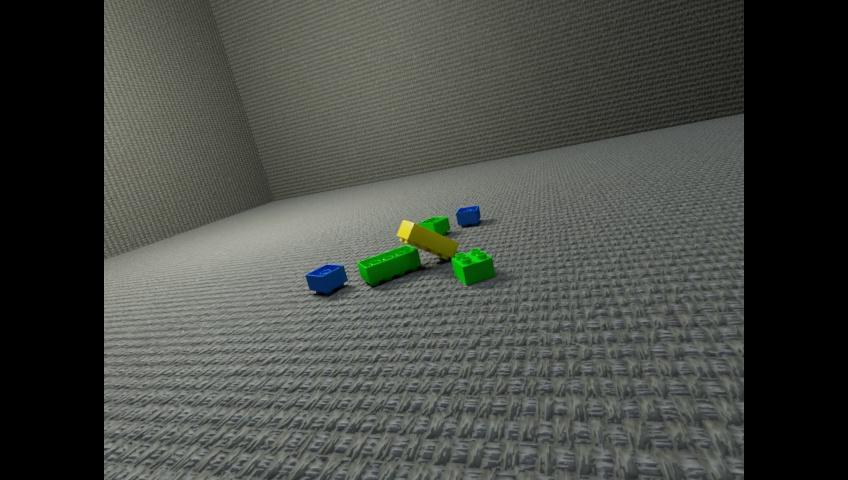2x2_blue: (305, 263, 347, 294), (455, 205, 479, 226)
2x2_green: (451, 247, 494, 284), (418, 216, 449, 234)
4x2_green: (357, 244, 420, 285)
4x2_yellow: (397, 219, 458, 259)
